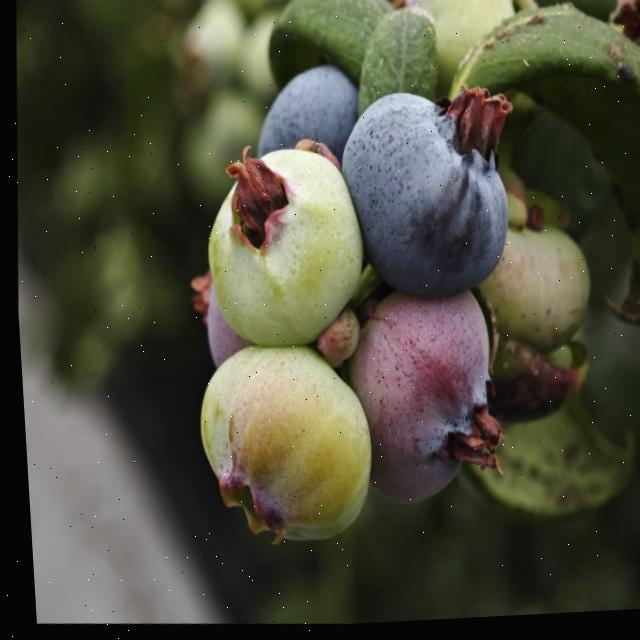RipeBlueBerry: (329, 86, 516, 309)
Semi-RipeBlueBerry: (340, 287, 500, 518)
UnripeBlueBerry: (183, 339, 377, 555), (192, 143, 371, 358), (480, 215, 597, 367)
